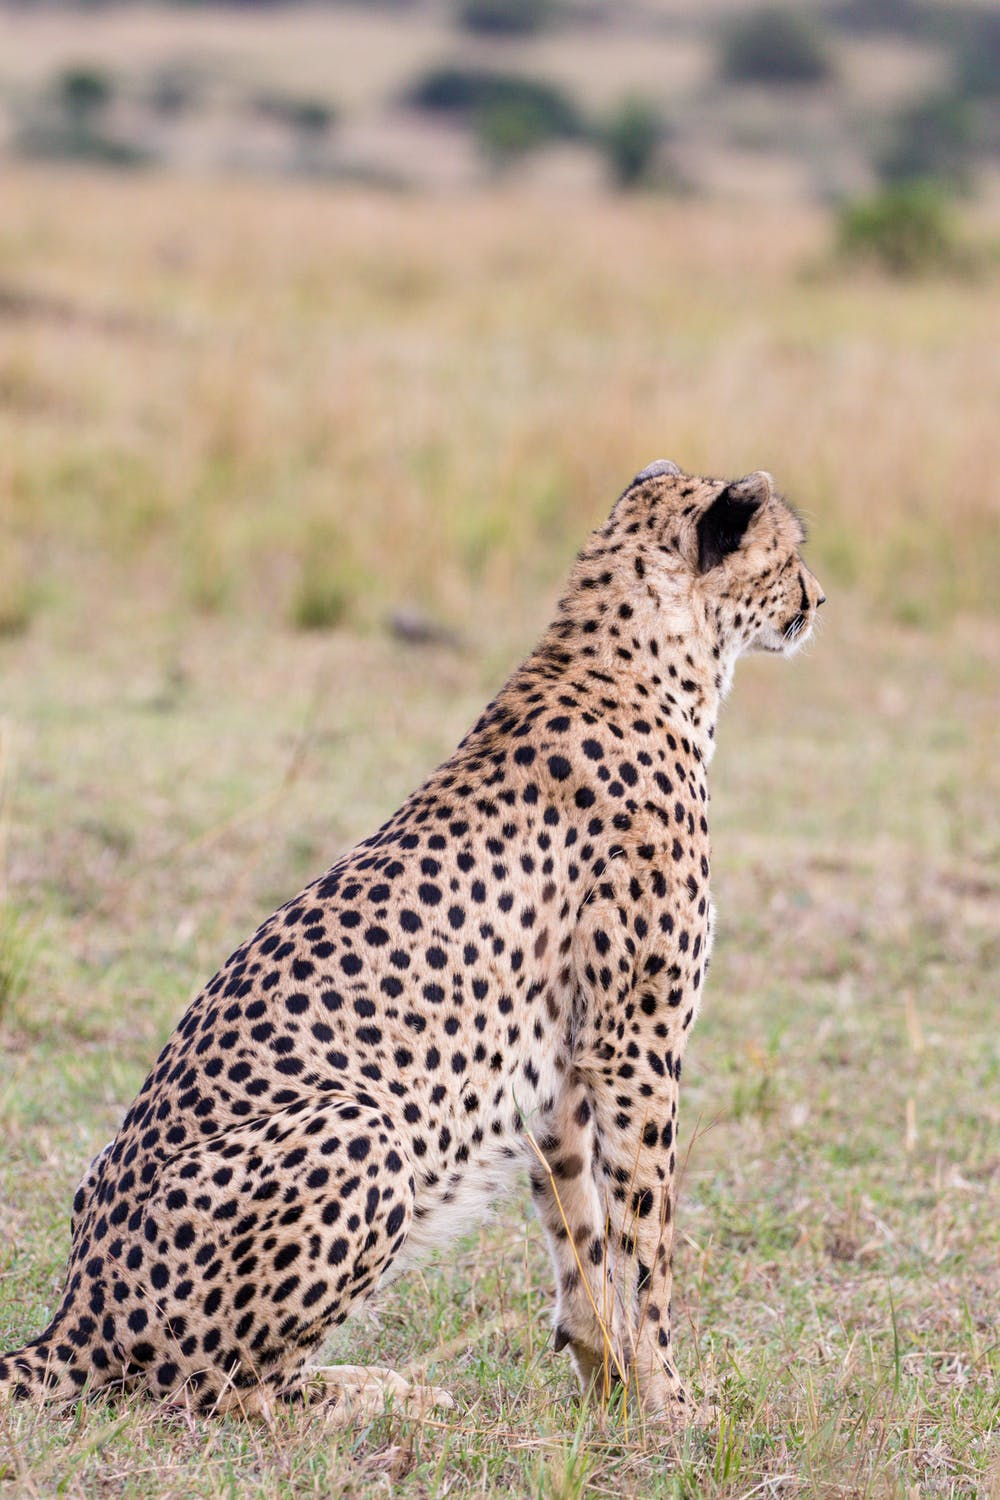cheetah: (587, 433, 848, 692)
